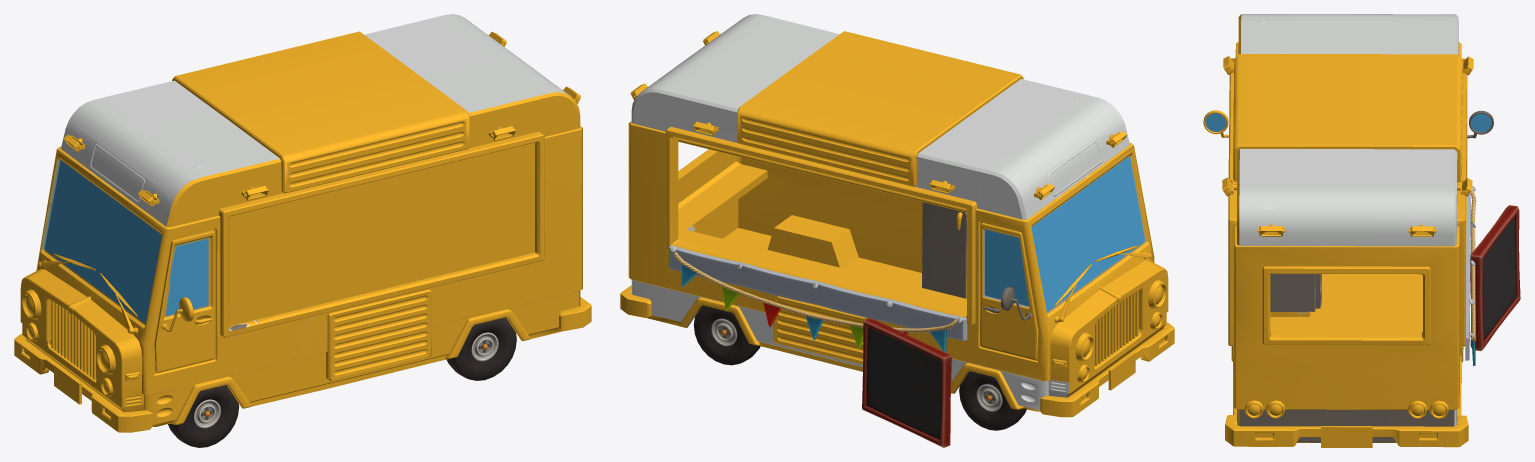
File: m_van_01.fbx
3 views of the same model, side by side, from view 1: azimuth 30°, elevation 25°; view 2: azimuth 150°, elevation 25°; view 3: azimuth 270°, elevation 25° (orthographic). The views are drawn at different scales.
Parts seen in each view (by area): view 1: m_van_01.001, m_vantyre_01 (3).001, m_vantyre_01 (2).001; view 2: m_van_01.001, m_chalkboard_01.001, m_frontend_banner_01.001, m_vantyre_01.001, m_vantyre_01 (1).001, Menu Background Baked Mesh-mesh0_10, Menu Background Baked Mesh-mesh0_8, m_vanpole_01.003; view 3: m_van_01.001, m_chalkboard_01.001, m_frontend_banner_01.001, Menu Background Baked Mesh-mesh0_8.
Part boxes in pixels (x1,y1,x2,y2): m_van_01.001: (14, 14, 591, 432); m_vantyre_01 (3).001: (446, 317, 516, 380); m_vantyre_01 (2).001: (168, 385, 239, 447); m_van_01.001: (620, 14, 1174, 417); m_chalkboard_01.001: (862, 317, 951, 447); m_frontend_banner_01.001: (669, 245, 967, 340); m_vantyre_01.001: (693, 305, 760, 365); m_vantyre_01 (1).001: (959, 371, 1026, 430); Menu Background Baked Mesh-mesh0_10: (681, 264, 946, 352); Menu Background Baked Mesh-mesh0_8: (674, 252, 957, 332); m_vanpole_01.003: (678, 138, 966, 212); m_van_01.001: (1203, 14, 1493, 447); m_chalkboard_01.001: (1470, 205, 1520, 351); m_frontend_banner_01.001: (1465, 185, 1475, 360); Menu Background Baked Mesh-mesh0_8: (1471, 190, 1476, 341).
Bounding box in the file's own units: 5.82 × 3.28 × 3.35.
